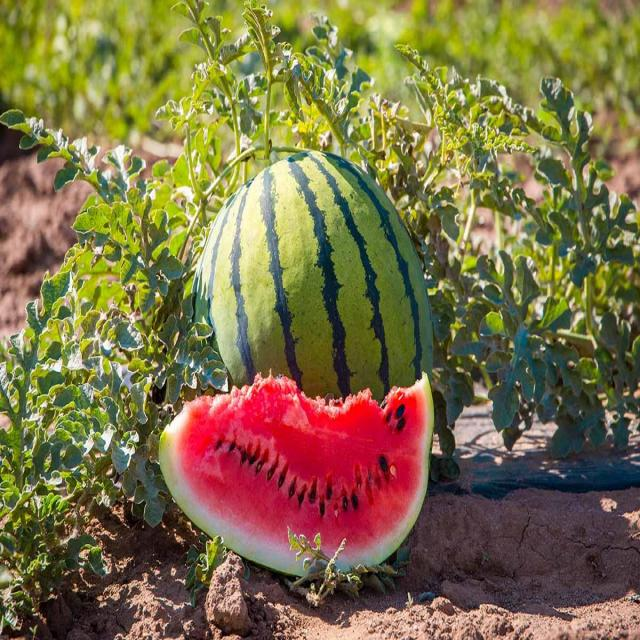watermelon: (190, 144, 433, 405), (163, 368, 437, 590)
